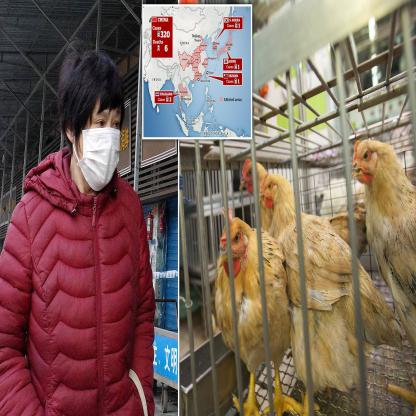Wearing_Mask: (77, 107, 124, 194)
